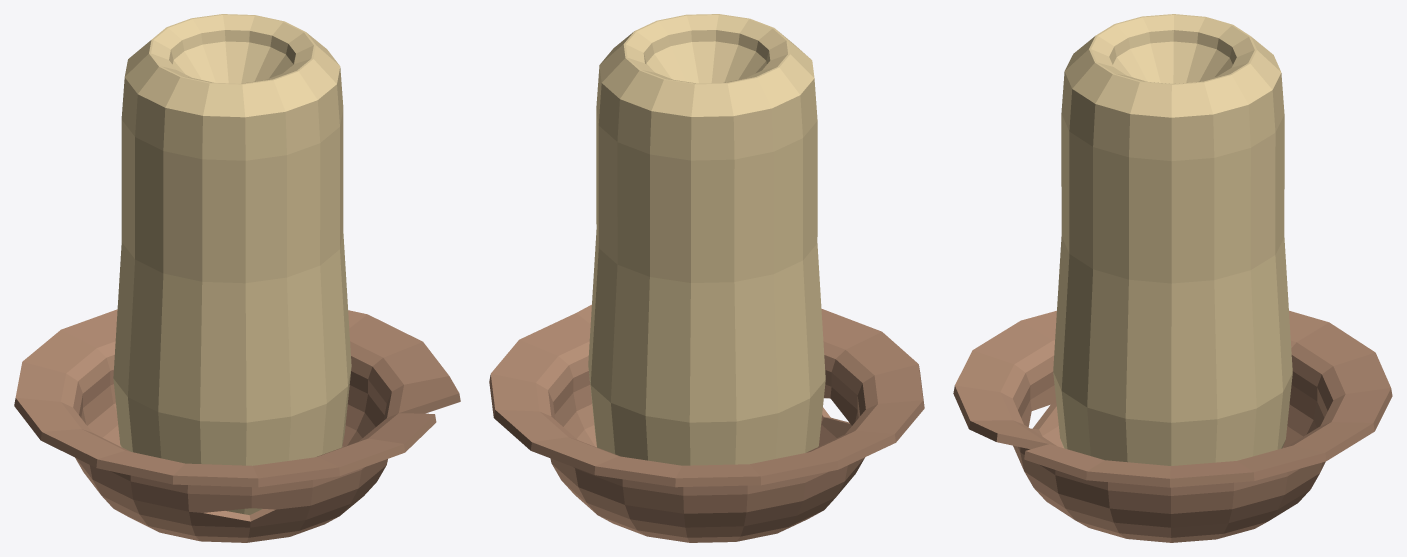
File: Candle.fbx
3 views of the same model, side by side, from view 1: azimuth 30°, elevation 25°; view 2: azimuth 150°, elevation 25°; view 3: azimuth 270°, elevation 25° (orthographic).
Visible parts, largest first — view 1: Candle; view 2: Candle; view 3: Candle.
Boxes of the visible parts, x1,y1,x2,y2 form: Candle: [14, 14, 460, 542]; Candle: [489, 14, 924, 542]; Candle: [953, 14, 1392, 542].
Bounding box in the file's own units: 14.39 × 16.25 × 14.39.
